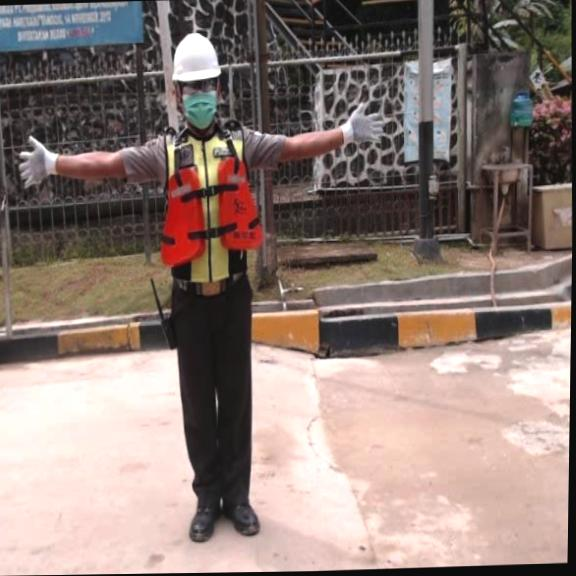safety_vest: (158, 153, 266, 268)
